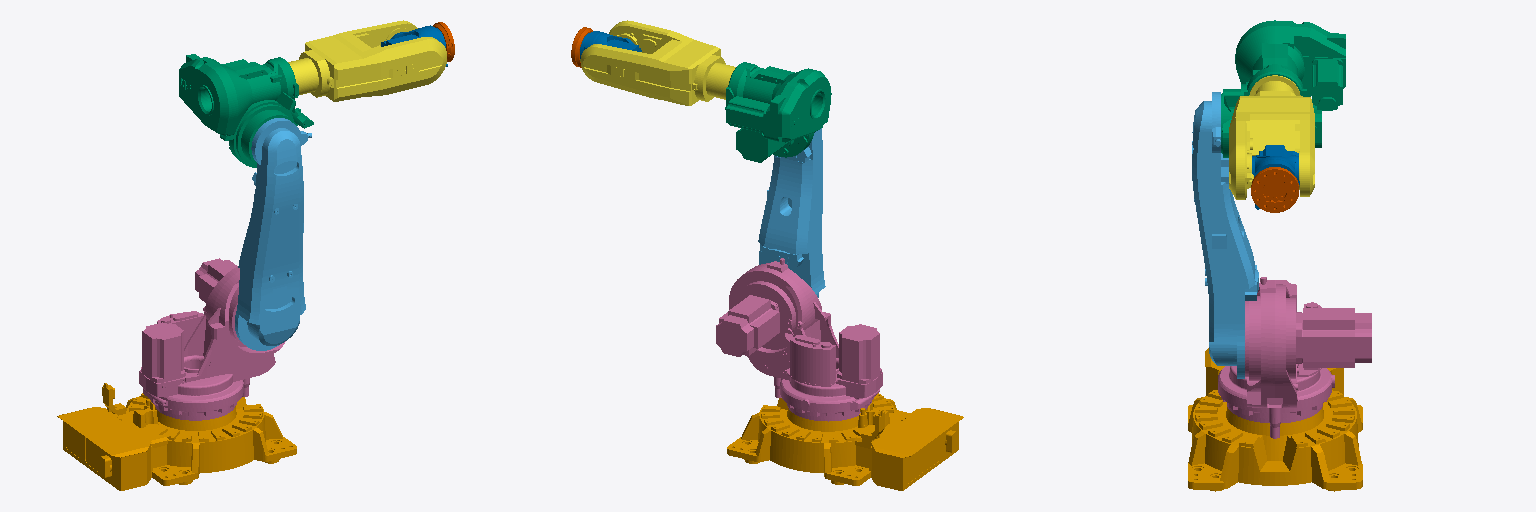
URDF robot description (irb6620):
<?xml version="1.0" ?>
<!-- =================================================================================== -->
<!-- |    This document was autogenerated by xacro from irb6620.urdf.xacro             | -->
<!-- |    EDITING THIS FILE BY HAND IS NOT RECOMMENDED                                 | -->
<!-- =================================================================================== -->
<robot name="irb6620">
  <!-- Robot description -->
  <!-- <xacro:include filename="$(find abb_irb6620_support)/urdf/materials.xacro" /> -->
  <!-- <xacro:include filename="$(find abb_irb6620_support)/urdf/irb6620.trans" /> -->
  <link name="base_link">
    <inertial>
      <origin rpy="0 0 0" xyz="-0.132426271542629 0.00025747943822749576 0.10729619546582686"/>
      <mass value="776.9359106593752"/>
      <inertia ixx="25.729826" ixy="-0.030919" ixz="0.51906" iyy="53.397553" iyz="-0.078877" izz="73.957156"/>
    </inertial>
    <visual>
      <origin rpy="0 0 0" xyz="0 0 0"/>
      <geometry>
        <mesh filename="package://abb_irb6620_support/meshes/base_link.stl" scale="0.001 0.001 0.001"/>
      </geometry>
      <material name="opaque215215215"/>
    </visual>
    <collision>
      <origin rpy="0 0 0" xyz="0 0 0"/>
      <geometry>
        <mesh filename="package://abb_irb6620_support/meshes/base_link.stl" scale="0.001 0.001 0.001"/>
      </geometry>
    </collision>
  </link>
  <link name="link2_1">
    <inertial>
      <origin rpy="0 0 0" xyz="0.0005479770874909917 -0.08783951896438288 0.4192832792190023"/>
      <mass value="322.6869494051032"/>
      <inertia ixx="31.332255" ixy="0.002905" ixz="-0.067522" iyy="32.058389" iyz="2.969817" izz="2.725277"/>
    </inertial>
    <visual>
      <origin rpy="0 0 0" xyz="-0.32 0.1305 -0.68"/>
      <geometry>
        <mesh filename="package://abb_irb6620_support/meshes/link2_1.stl" scale="0.001 0.001 0.001"/>
      </geometry>
      <material name="opaque215215215"/>
    </visual>
    <collision>
      <origin rpy="0 0 0" xyz="-0.32 0.1305 -0.68"/>
      <geometry>
        <mesh filename="package://abb_irb6620_support/meshes/link2_1.stl" scale="0.001 0.001 0.001"/>
      </geometry>
    </collision>
  </link>
  <link name="link3_1">
    <inertial>
      <origin rpy="0 0 0" xyz="-0.04789961325357317 0.23437540848823246 0.11779163280818872"/>
      <mass value="392.46903681876654"/>
      <inertia ixx="11.726762" ixy="1.465206" ixz="1.592788" iyy="10.861718" iyz="-2.045934" izz="11.751196"/>
    </inertial>
    <visual>
      <origin rpy="0 0 0" xyz="-0.32 0.226 -1.655"/>
      <geometry>
        <mesh filename="package://abb_irb6620_support/meshes/link3_1.stl" scale="0.001 0.001 0.001"/>
      </geometry>
      <material name="opaque215215215"/>
    </visual>
    <collision>
      <origin rpy="0 0 0" xyz="-0.32 0.226 -1.655"/>
      <geometry>
        <mesh filename="package://abb_irb6620_support/meshes/link3_1.stl" scale="0.001 0.001 0.001"/>
      </geometry>
    </collision>
  </link>
  <link name="link4_1">
    <inertial>
      <origin rpy="0 0 0" xyz="0.39206968327914915 -0.014153009406367673 -6.0809943929651666e-05"/>
      <mass value="283.78132224866226"/>
      <inertia ixx="3.961577" ixy="0.662055" ixz="-0.007475" iyy="11.46404" iyz="0.000528" izz="13.570946"/>
    </inertial>
    <visual>
      <origin rpy="0 0 0" xyz="-0.502 -0.0 -1.855"/>
      <geometry>
        <mesh filename="package://abb_irb6620_support/meshes/link4_1.stl" scale="0.001 0.001 0.001"/>
      </geometry>
      <material name="opaque215215215"/>
    </visual>
    <collision>
      <origin rpy="0 0 0" xyz="-0.502 -0.0 -1.855"/>
      <geometry>
        <mesh filename="package://abb_irb6620_support/meshes/link4_1.stl" scale="0.001 0.001 0.001"/>
      </geometry>
    </collision>
  </link>
  <link name="link5_1">
    <inertial>
      <origin rpy="0 0 0" xyz="0.03807418429508913 -0.10016333880680821 -0.0013021548163800745"/>
      <mass value="49.95763546704962"/>
      <inertia ixx="0.204286" ixy="0.014389" ixz="0.00517" iyy="0.370215" iyz="-0.00385" izz="0.398271"/>
    </inertial>
    <visual>
      <origin rpy="0 0 0" xyz="-1.207 -0.102 -1.855"/>
      <geometry>
        <mesh filename="package://abb_irb6620_support/meshes/link5_1.stl" scale="0.001 0.001 0.001"/>
      </geometry>
      <material name="opaque215215215"/>
    </visual>
    <collision>
      <origin rpy="0 0 0" xyz="-1.207 -0.102 -1.855"/>
      <geometry>
        <mesh filename="package://abb_irb6620_support/meshes/link5_1.stl" scale="0.001 0.001 0.001"/>
      </geometry>
    </collision>
  </link>
  <link name="link6_1">
    <inertial>
      <origin rpy="0 0 0" xyz="0.013682763984402824 0.0004916127782434797 -8.489689701751679e-05"/>
      <mass value="7.203563041480472"/>
      <inertia ixx="0.037108" ixy="8e-06" ixz="1e-06" iyy="0.019368" iyz="-7e-05" izz="0.019147"/>
    </inertial>
    <visual>
      <origin rpy="0 0 0" xyz="-1.375 0.0 -1.855"/>
      <geometry>
        <mesh filename="package://abb_irb6620_support/meshes/link6_1.stl" scale="0.001 0.001 0.001"/>
      </geometry>
      <material name="opaque128128128"/>
    </visual>
    <collision>
      <origin rpy="0 0 0" xyz="-1.375 0.0 -1.855"/>
      <geometry>
        <mesh filename="package://abb_irb6620_support/meshes/link6_1.stl" scale="0.001 0.001 0.001"/>
      </geometry>
    </collision>
  </link>
  <link name="link1_1">
    <inertial>
      <origin rpy="0 0 0" xyz="0.14890152402063087 0.032537506095083685 0.29973883589665773"/>
      <mass value="642.4142354132725"/>
      <inertia ixx="27.786175" ixy="-2.179688" ixz="-12.883359" iyy="44.967832" iyz="-2.614551" izz="35.549494"/>
    </inertial>
    <visual>
      <origin rpy="0 0 0" xyz="-0.0 -0.0 -0.23"/>
      <geometry>
        <mesh filename="package://abb_irb6620_support/meshes/link1_1.stl" scale="0.001 0.001 0.001"/>
      </geometry>
      <material name="opaque215215215"/>
    </visual>
    <collision>
      <origin rpy="0 0 0" xyz="-0.0 -0.0 -0.23"/>
      <geometry>
        <mesh filename="package://abb_irb6620_support/meshes/link1_1.stl" scale="0.001 0.001 0.001"/>
      </geometry>
    </collision>
  </link>
  <joint name="joint_2" type="continuous">
    <origin rpy="0 0 0" xyz="0.32 -0.1305 0.45"/>
    <parent link="link1_1"/>
    <child link="link2_1"/>
    <axis xyz="-0.0 -1.0 -0.0"/>
  </joint>
  <joint name="joint_3" type="continuous">
    <origin rpy="0 0 0" xyz="0.0 -0.0955 0.975"/>
    <parent link="link2_1"/>
    <child link="link3_1"/>
    <axis xyz="0.0 -1.0 0.0"/>
  </joint>
  <joint name="joint_4" type="continuous">
    <origin rpy="0 0 0" xyz="0.182 0.226 0.2"/>
    <parent link="link3_1"/>
    <child link="link4_1"/>
    <axis xyz="1.0 0.0 0.0"/>
  </joint>
  <joint name="joint_5" type="continuous">
    <origin rpy="0 0 0" xyz="0.705 0.102 0.0"/>
    <parent link="link4_1"/>
    <child link="link5_1"/>
    <axis xyz="-0.0 -1.0 0.0"/>
  </joint>
  <joint name="joint_6" type="continuous">
    <origin rpy="0 0 0" xyz="0.168 -0.102 0.0"/>
    <parent link="link5_1"/>
    <child link="link6_1"/>
    <axis xyz="-1.0 0.0 0.0"/>
  </joint>
  <joint name="joint_1" type="continuous">
    <origin rpy="0 0 0" xyz="0.0 0.0 0.23"/>
    <parent link="base_link"/>
    <child link="link1_1"/>
    <axis xyz="0.0 0.0 1.0"/>
  </joint>

  <ros2_control name="ABBMultiInterfaceHardware" type="system">
    <hardware>
      <plugin>mock_components/GenericSystem</plugin>
      <param name="fake_sensor_commands">false</param>
      <param name="state_following_offset">0.0</param>
    </hardware>
    <joint name="joint_1">
      <command_interface name="position">
        <param name="min">-6.283185307179586</param>
        <param name="max">6.283185307179586</param>
      </command_interface>
      <command_interface name="velocity"/>
      <state_interface name="position">
        <param name="initial_value">0.0</param>
      </state_interface>
      <state_interface name="velocity"/>
    </joint>
    <joint name="joint_2">
      <command_interface name="position">
        <param name="min">-2.41</param>
        <param name="max">2.41</param>
      </command_interface>
      <command_interface name="velocity"/>
      <state_interface name="position">
        <param name="initial_value">0.0</param>
      </state_interface>
      <state_interface name="velocity"/>
    </joint>
    <joint name="joint_3">
      <command_interface name="position">
        <param name="min">-6.283185307179586</param>
        <param name="max">6.283185307179586</param>
      </command_interface>
      <command_interface name="velocity"/>
      <state_interface name="position">
        <param name="initial_value">0.0</param>
      </state_interface>
      <state_interface name="velocity"/>
    </joint>
    <joint name="joint_4">
      <command_interface name="position">
        <param name="min">-2.66</param>
        <param name="max">2.66</param>
      </command_interface>
      <command_interface name="velocity"/>
      <state_interface name="position">
        <param name="initial_value">0.0</param>
      </state_interface>
      <state_interface name="velocity"/>
    </joint>
    <joint name="joint_5">
      <command_interface name="position">
        <param name="min">-6.283185307179586</param>
        <param name="max">6.283185307179586</param>
      </command_interface>
      <command_interface name="velocity"/>
      <state_interface name="position">
        <param name="initial_value">0.0</param>
      </state_interface>
      <state_interface name="velocity"/>
    </joint>
    <joint name="joint_6">
      <command_interface name="position">
        <param name="min">-2.23</param>
        <param name="max">2.23</param>
      </command_interface>
      <command_interface name="velocity"/>
      <state_interface name="position">
        <param name="initial_value">0.0</param>
      </state_interface>
      <state_interface name="velocity"/>
    </joint>
  </ros2_control>
</robot>

--- Facts derived from the render (not from the file) ---
Views: 3 orthographic renders of the robot side by side, from view 1: azimuth 30°, elevation 25°; view 2: azimuth 150°, elevation 25°; view 3: azimuth 270°, elevation 25°.
Robot: irb6620 — 7 links, 6 joints (6 continuous); root link base_link; default pose: all joints at 0.
Visible links, largest first — view 1: base_link, link1_1, link2_1, link4_1, link3_1, link5_1; view 2: link1_1, base_link, link4_1, link3_1, link2_1, link5_1; view 3: link1_1, base_link, link2_1, link3_1, link4_1, link6_1, link5_1.
Boxes of the visible links, x1,y1,x2,y2 form: base_link: (57,383,296,490); link1_1: (139,258,285,420); link2_1: (235,118,311,350); link4_1: (288,20,446,101); link3_1: (179,54,313,167); link5_1: (381,25,447,66); link1_1: (716,258,882,421); base_link: (727,393,963,490); link4_1: (580,20,735,105); link3_1: (725,62,831,162); link2_1: (758,128,825,297); link5_1: (580,31,641,58); link1_1: (1218,277,1371,438); base_link: (1188,348,1362,491); link2_1: (1192,92,1258,378); link3_1: (1221,20,1345,157); link4_1: (1229,75,1314,199); link6_1: (1251,167,1298,212); link5_1: (1252,145,1299,209).
Size in the robot's own frame: 2.03 by 0.7605 by 2.02 metres.
Meshes: 7 distinct files referenced, 7 mesh visuals loaded (7 binary STL).
